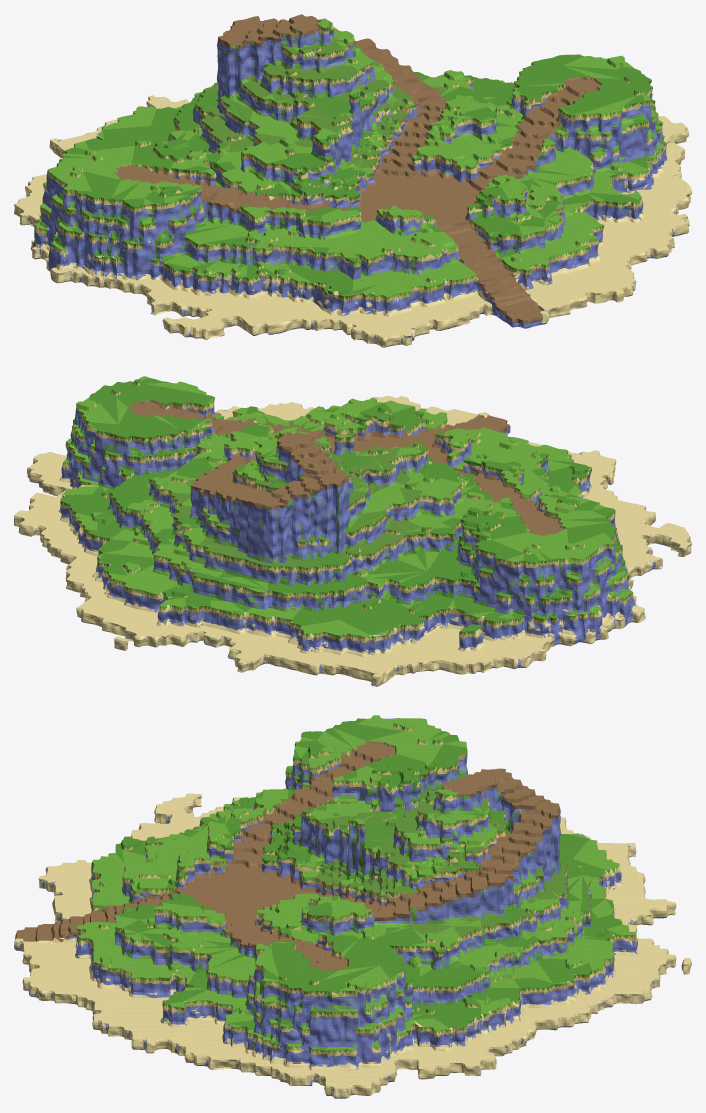
The model's file is IslandTerrain.fbx.
3 views of the same model, one above another, from view 1: azimuth 30°, elevation 25°; view 2: azimuth 150°, elevation 25°; view 3: azimuth 270°, elevation 25° (orthographic). The views are drawn at different scales.
Visible parts, largest first — view 1: IslandTerrain_7_9_Grass, IslandTerrain_5_8_Rock, IslandTerrain_8_8_Dirt, IslandTerrain_7_7_Stone, IslandTerrain_6_9_Beach, IslandTerrain_6_8_Grass, IslandTerrain_7_7_Rock, IslandTerrain_9_8_Grass, IslandTerrain_8_10_Beach, IslandTerrain_6_9_Rock, IslandTerrain_7_10_Beach, IslandTerrain_7_8_GrassDark (+79 smaller); view 2: IslandTerrain_7_6_Rock, IslandTerrain_5_7_Rock, IslandTerrain_6_7_GrassDark, IslandTerrain_7_6_GrassDark, IslandTerrain_8_6_Rock, IslandTerrain_9_7_GrassDark, IslandTerrain_6_6_GrassDark, IslandTerrain_8_5_Beach, IslandTerrain_5_7_Grass, IslandTerrain_7_5_Beach, IslandTerrain_8_6_Grass, IslandTerrain_7_7_Stone (+77 smaller); view 3: IslandTerrain_10_8_Rock, IslandTerrain_7_9_Grass, IslandTerrain_8_6_Rock, IslandTerrain_8_7_Rock, IslandTerrain_9_7_GrassDark, IslandTerrain_9_9_Beach, IslandTerrain_10_7_Rock, IslandTerrain_10_7_Beach, IslandTerrain_8_6_Grass, IslandTerrain_8_7_Stone, IslandTerrain_9_9_Grass, IslandTerrain_8_7_Grass (+78 smaller).
Part boxes in pixels (<box>): IslandTerrain_7_9_Grass: <box>320,205,472,296</box>; IslandTerrain_5_8_Rock: <box>60,201,209,314</box>; IslandTerrain_8_8_Dirt: <box>373,120,522,212</box>; IslandTerrain_7_7_Stone: <box>207,31,338,152</box>; IslandTerrain_6_9_Beach: <box>201,275,375,335</box>; IslandTerrain_6_8_Grass: <box>159,156,319,281</box>; IslandTerrain_7_7_Rock: <box>207,33,359,169</box>; IslandTerrain_9_8_Grass: <box>462,83,627,183</box>; IslandTerrain_8_10_Beach: <box>515,254,624,324</box>; IslandTerrain_6_9_Rock: <box>211,224,376,335</box>; IslandTerrain_7_10_Beach: <box>375,277,493,345</box>; IslandTerrain_7_8_GrassDark: <box>272,96,365,215</box>; IslandTerrain_7_6_Rock: <box>230,451,379,634</box>; IslandTerrain_5_7_Rock: <box>496,540,644,646</box>; IslandTerrain_6_7_GrassDark: <box>377,504,527,610</box>; IslandTerrain_7_6_GrassDark: <box>219,464,367,626</box>; IslandTerrain_8_6_Rock: <box>153,449,284,601</box>; IslandTerrain_9_7_GrassDark: <box>78,416,215,514</box>; IslandTerrain_6_6_GrassDark: <box>339,569,494,649</box>; IslandTerrain_8_5_Beach: <box>94,592,222,650</box>; IslandTerrain_5_7_Grass: <box>491,518,632,619</box>; IslandTerrain_7_5_Beach: <box>209,612,332,673</box>; IslandTerrain_8_6_Grass: <box>112,443,280,592</box>; IslandTerrain_7_7_Stone: <box>312,440,422,552</box>; IslandTerrain_10_8_Rock: <box>224,969,351,1085</box>; IslandTerrain_7_9_Grass: <box>92,821,227,908</box>; IslandTerrain_8_6_Rock: <box>472,793,591,961</box>; IslandTerrain_8_7_Rock: <box>348,796,474,926</box>; IslandTerrain_9_7_GrassDark: <box>342,927,480,1015</box>; IslandTerrain_9_9_Beach: <box>94,968,224,1039</box>; IslandTerrain_10_7_Rock: <box>345,975,473,1094</box>; IslandTerrain_10_7_Beach: <box>345,1019,476,1095</box>; IslandTerrain_8_6_Grass: <box>468,791,605,967</box>; IslandTerrain_8_7_Stone: <box>348,789,479,927</box>; IslandTerrain_9_9_Grass: <box>100,936,247,1024</box>; IslandTerrain_8_7_Grass: <box>342,789,481,926</box>.
Size of the model in its own units: 381 by 87.01 by 349.
7 materials, 7 textured.
